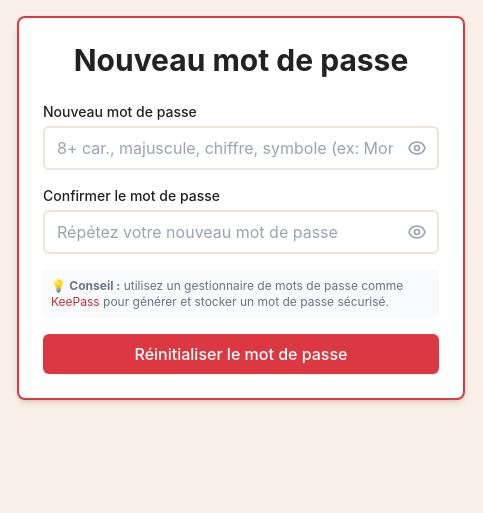
Test: ResetPasswordPage (intégration) › affiche une erreur si les mots de passe ne correspondent pas
Type "NewPass123!" into the password field labelled "Nouveau mot de passe" at (241, 148), box x1=43 y1=126 x2=439 y2=170
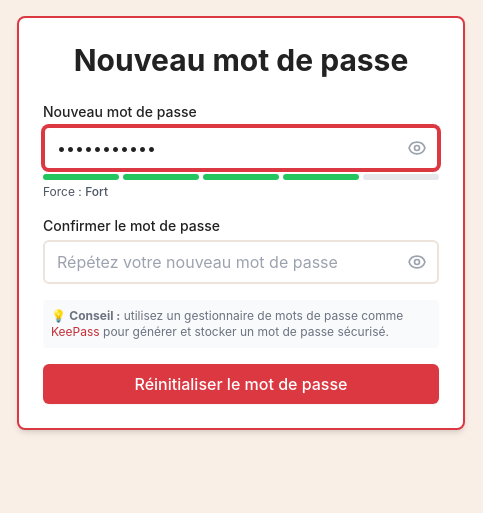
Type "DifferentPass!" into the password field labelled "Confirmer le mot de passe" at (241, 262), box x1=43 y1=240 x2=439 y2=284
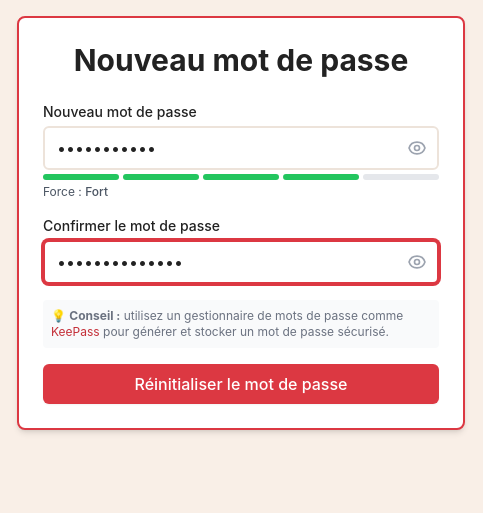
Click the button "Réinitialiser le mot de passe" at (241, 384), box x1=43 y1=364 x2=439 y2=404
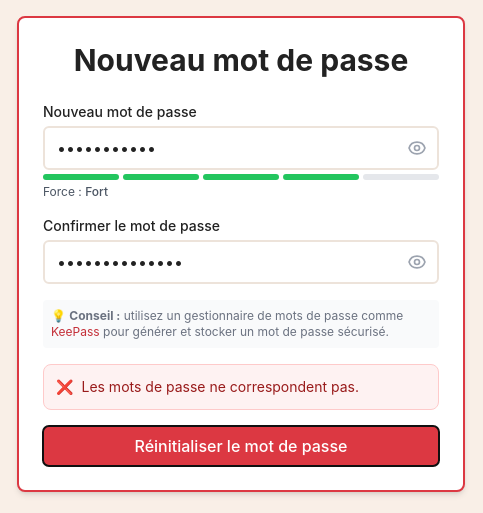
Now the text "Les mots de passe ne correspondent pas." is shown, box x1=82 y1=378 x2=359 y2=395
